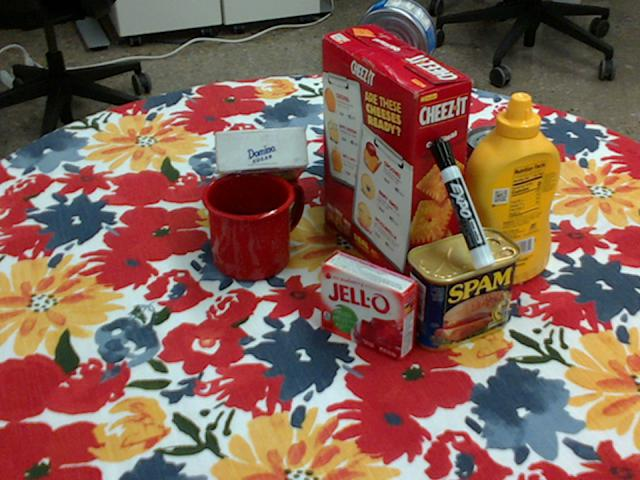cracker_box: (321, 26, 470, 292)
gelatin_box: (320, 249, 419, 359)
large_marker: (429, 137, 496, 268)
master_chef_can: (331, 57, 424, 208)
mug: (203, 170, 306, 280)
mustard_bottle: (457, 93, 560, 288)
potted_meat_can: (408, 227, 522, 351)
sugar_box: (216, 128, 308, 184)
tomato_soup_can: (459, 126, 530, 237)
tuna_fish_can: (352, 0, 434, 83)
